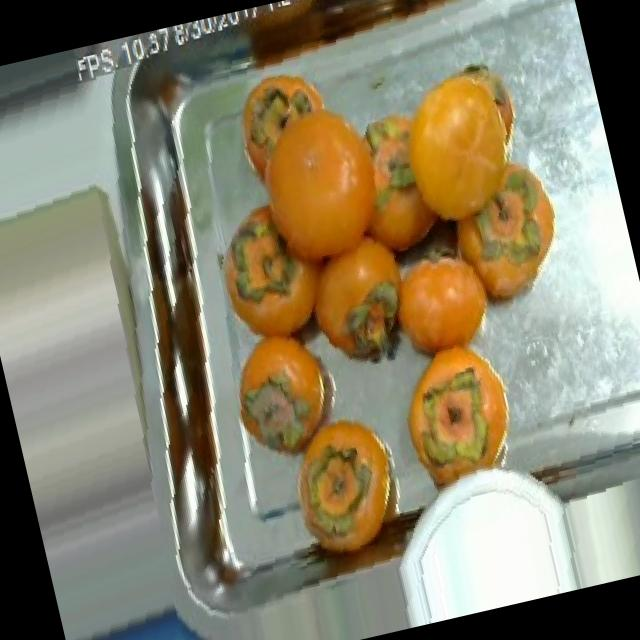Fruit: (213, 44, 402, 256), (264, 392, 418, 568), (381, 332, 536, 502), (460, 134, 588, 316)
